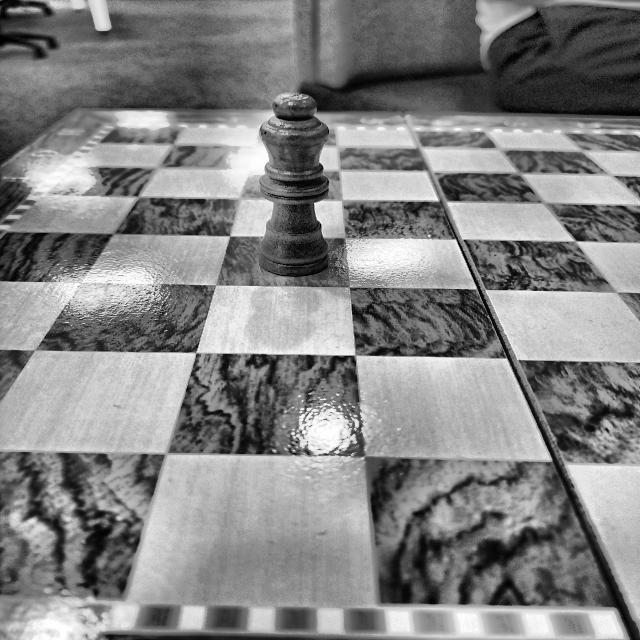black-queen: (257, 93, 332, 277)
